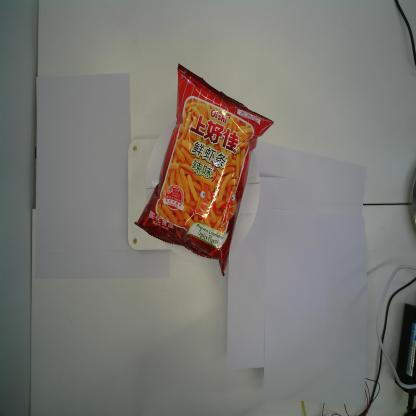Puffed Food: (132, 62, 274, 277)
